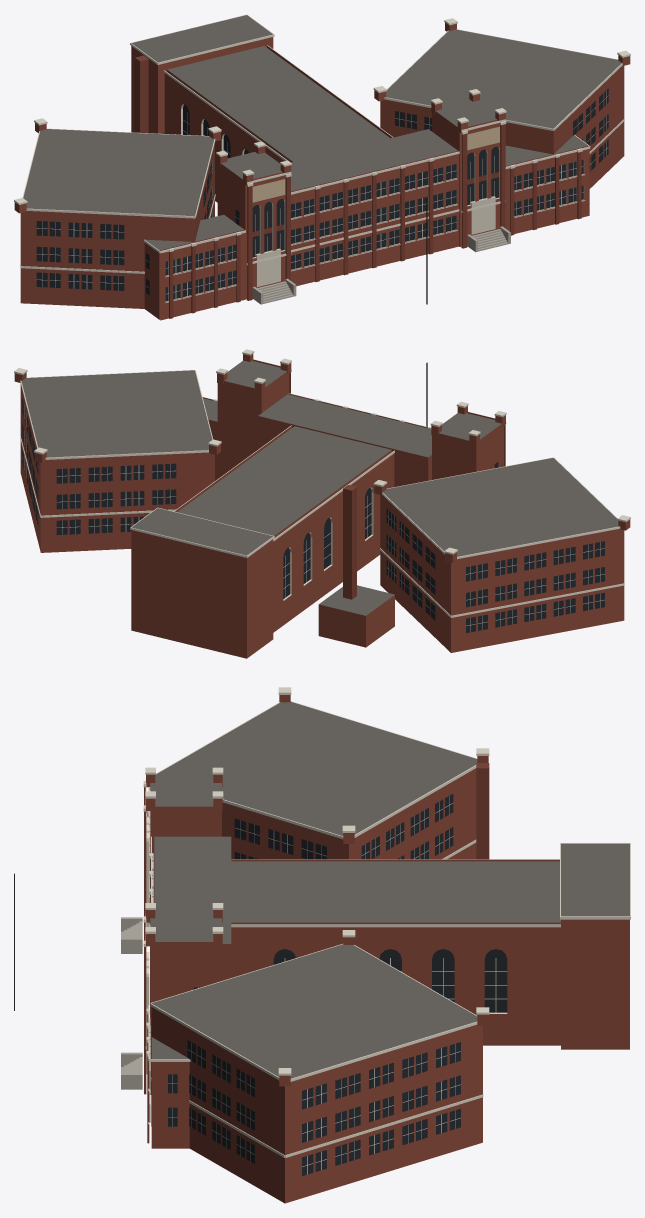
File: dunbar-high-school.glb
3 renders of one model, top to bottom at view 1: azimuth 30°, elevation 25°; view 2: azimuth 150°, elevation 25°; view 3: azimuth 270°, elevation 25°, orthographic. The views are drawn at different scales.
Parts seen in each view (by area): view 1: dunbar_roof, dunbar_brick, dunbar_glass, dunbar_trim, dunbar_brick2, dunbar_sash, dunbar_stone, dunbar_base, dunbar_check; view 2: dunbar_brick, dunbar_roof, dunbar_glass, dunbar_trim, dunbar_sash, dunbar_brick2; view 3: dunbar_roof, dunbar_brick, dunbar_glass, dunbar_trim, dunbar_brick2, dunbar_sash, dunbar_base.
Part boxes in pixels (bbox=[...]): dunbar_roof: bbox=[23, 15, 621, 250]; dunbar_brick: bbox=[14, 22, 630, 320]; dunbar_glass: bbox=[36, 88, 608, 301]; dunbar_trim: bbox=[14, 14, 630, 303]; dunbar_brick2: bbox=[135, 55, 581, 318]; dunbar_sash: bbox=[37, 90, 608, 300]; dunbar_stone: bbox=[255, 196, 495, 287]; dunbar_base: bbox=[252, 226, 510, 304]; dunbar_check: bbox=[252, 126, 499, 202]; dunbar_brick: bbox=[14, 354, 630, 658]; dunbar_roof: bbox=[21, 360, 618, 615]; dunbar_glass: bbox=[22, 398, 604, 632]; dunbar_trim: bbox=[14, 349, 630, 617]; dunbar_sash: bbox=[22, 405, 604, 631]; dunbar_brick2: bbox=[343, 425, 505, 599]; dunbar_roof: bbox=[150, 702, 629, 1078]; dunbar_brick: bbox=[146, 695, 629, 1203]; dunbar_glass: bbox=[168, 794, 507, 1175]; dunbar_trim: bbox=[143, 687, 630, 1157]; dunbar_brick2: bbox=[144, 763, 489, 1143]; dunbar_sash: bbox=[168, 796, 507, 1174]; dunbar_base: bbox=[121, 917, 142, 1089].
Size of the model in its own units: 96.96 by 21.3 by 65.48.
